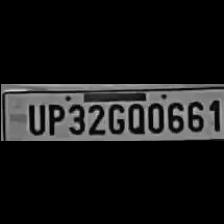0: (146, 99, 162, 133)
1: (206, 96, 222, 130)
2: (86, 100, 104, 134)
3: (65, 99, 84, 134)
6: (184, 97, 204, 130), (164, 97, 182, 132)
G: (105, 99, 124, 134)
P: (44, 99, 62, 135)
Q: (125, 99, 144, 134)
U: (24, 100, 42, 134)
